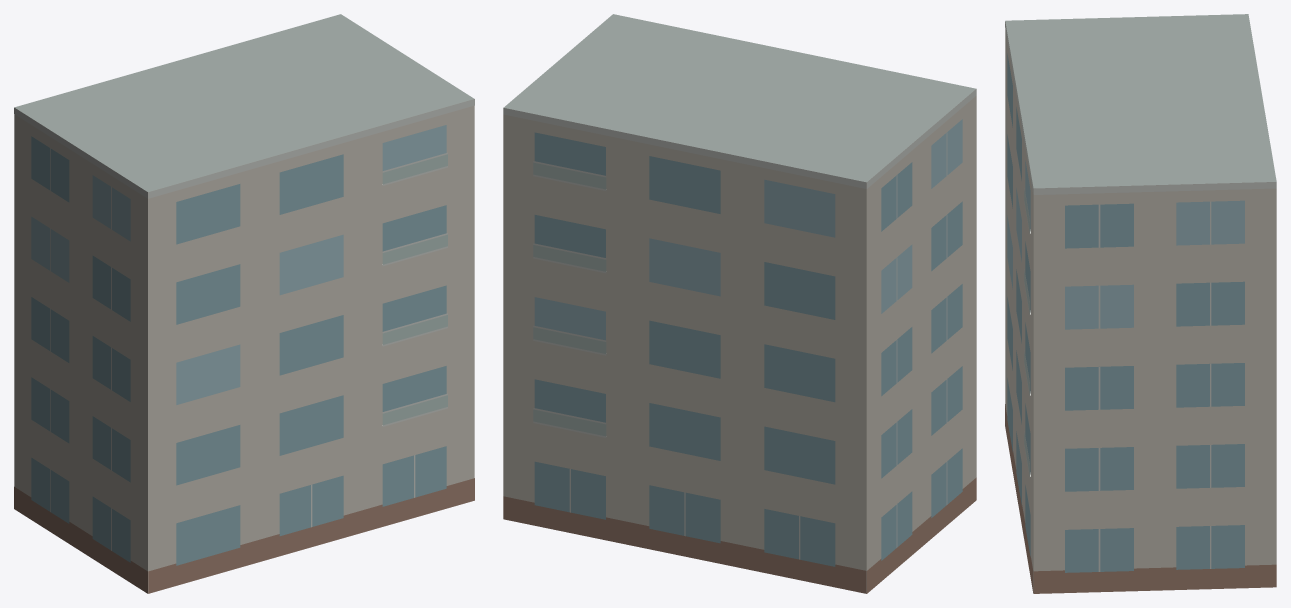
Rendered from survey-upis-32698611.glb.
3 views of the same model, side by side, from view 1: azimuth 30°, elevation 25°; view 2: azimuth 150°, elevation 25°; view 3: azimuth 270°, elevation 25° (orthographic). The views are drawn at different scales.
Parts seen in each view (by area): view 1: survey-upis-32698611.tmp; view 2: survey-upis-32698611.tmp; view 3: survey-upis-32698611.tmp.
Part boxes in pixels (x1,y1,x2,y2): survey-upis-32698611.tmp: (14,14,474,593); survey-upis-32698611.tmp: (503,14,976,593); survey-upis-32698611.tmp: (1005,14,1276,593).
Size of the model in its own units: 13.76 by 14.9 by 9.05.
